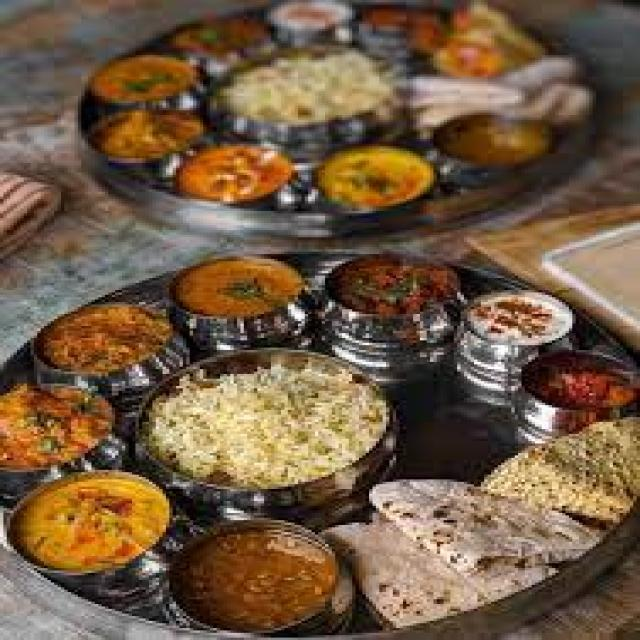dal: (308, 140, 438, 212)
papad: (129, 348, 392, 494), (490, 417, 635, 526)
pickle: (510, 345, 638, 421)
rice: (135, 353, 394, 497), (210, 40, 400, 145)
sweet: (515, 349, 636, 415), (259, 2, 356, 39)
veg-fry: (147, 516, 352, 640), (410, 3, 538, 85)
